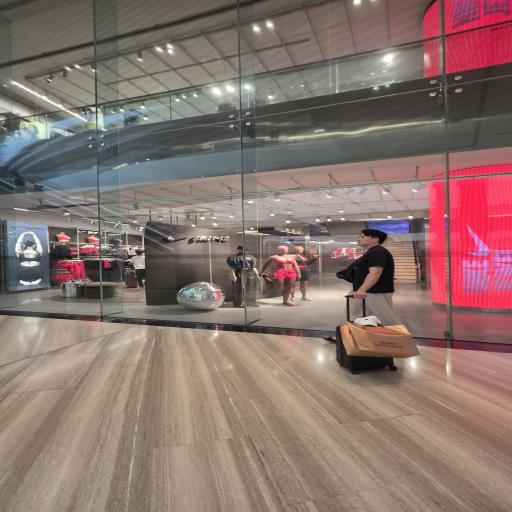person_with_luggage_left: (318, 222, 418, 370)
